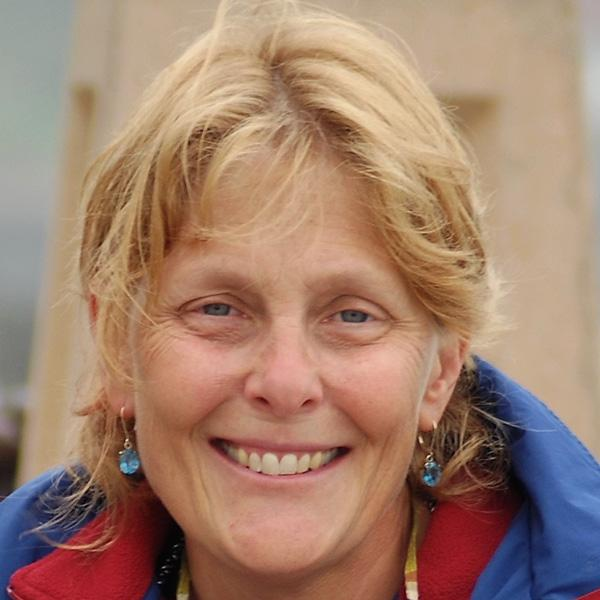Eyes: (175, 285, 261, 334), (311, 287, 390, 338)
